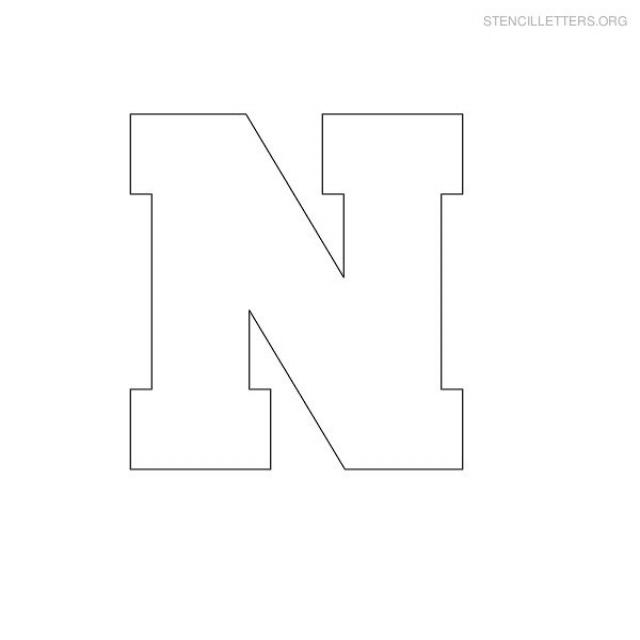N: (91, 65, 483, 508)
